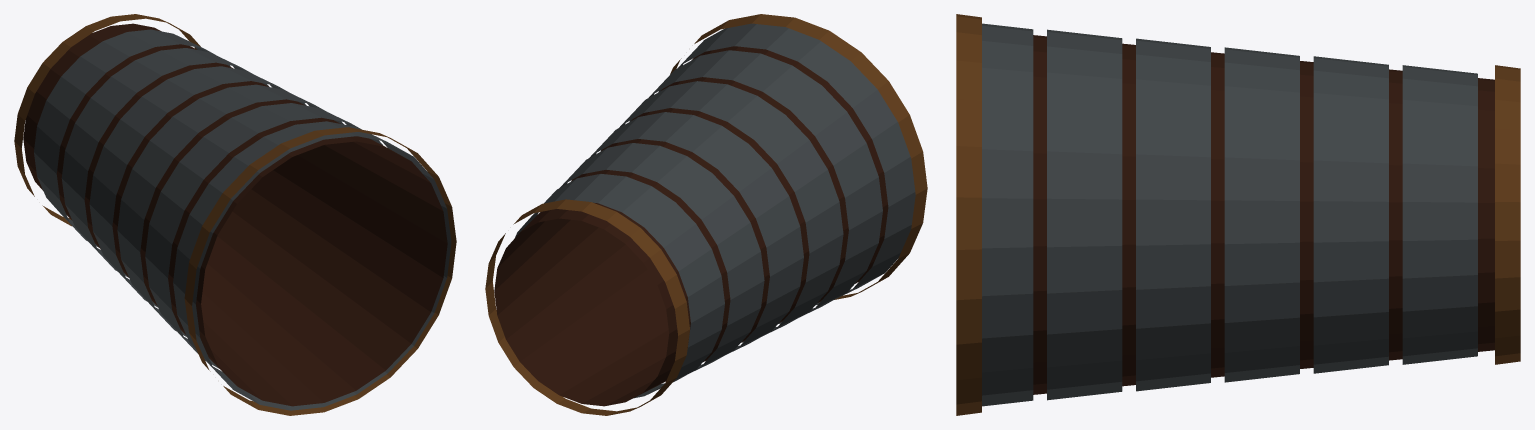
The model's file is bracer_LOD0.obj.
The picture shows the model from 3 angles, left to right: view 1: azimuth 30°, elevation 25°; view 2: azimuth 150°, elevation 25°; view 3: azimuth 270°, elevation 25°; orthographic projection. The views are drawn at different scales.
Parts seen in each view (by area): view 1: RatiborBracer; view 2: RatiborBracer; view 3: RatiborBracer.
Part boxes in pixels (box(x1,y1,x2,y2)): RatiborBracer: box(14, 14, 456, 415); RatiborBracer: box(485, 14, 927, 415); RatiborBracer: box(956, 14, 1520, 415).
Size of the model in its own units: 0.236 by 0.236 by 0.33.
